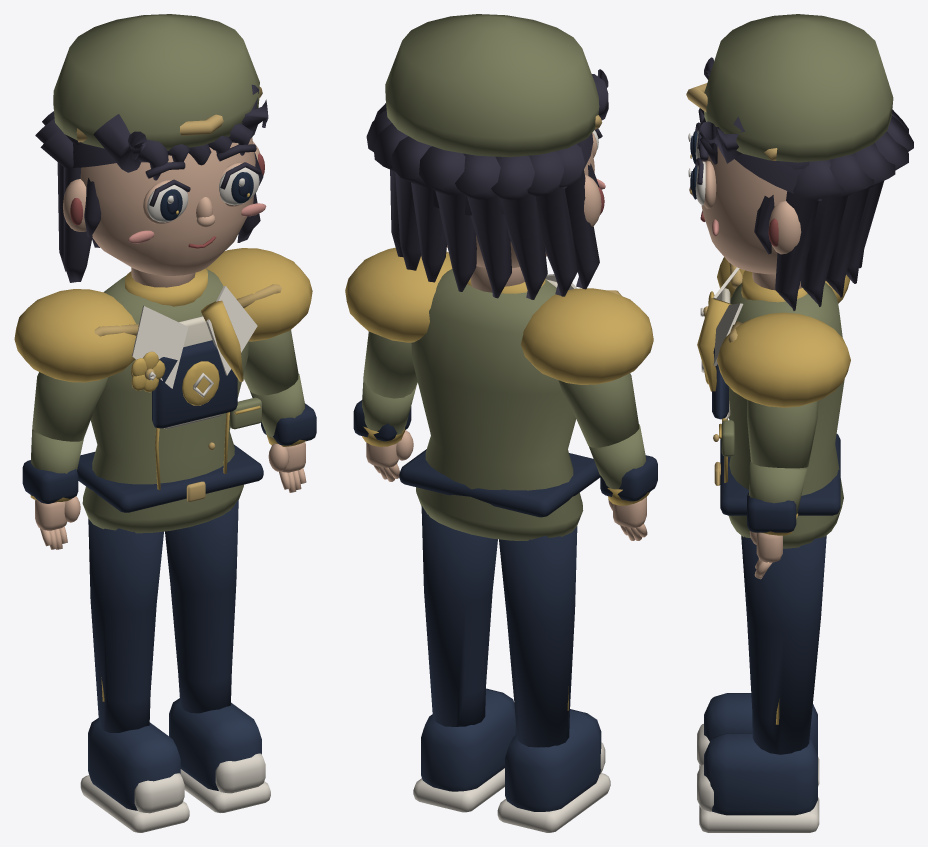
Rendered from npc_region_lieutenant_2.glb.
3 renders of one model, left to right at view 1: azimuth 30°, elevation 25°; view 2: azimuth 150°, elevation 25°; view 3: azimuth 270°, elevation 25°, orthographic. The views are drawn at different scales.
Visible parts, largest first — view 1: figure.024; view 2: figure.024; view 3: figure.024.
Boxes of the visible parts, x1,y1,x2,y2 form: figure.024: (14, 14, 316, 832); figure.024: (345, 14, 657, 832); figure.024: (686, 14, 913, 832).
Size of the model in its own units: 0.6651 by 1.72 by 0.4582.
